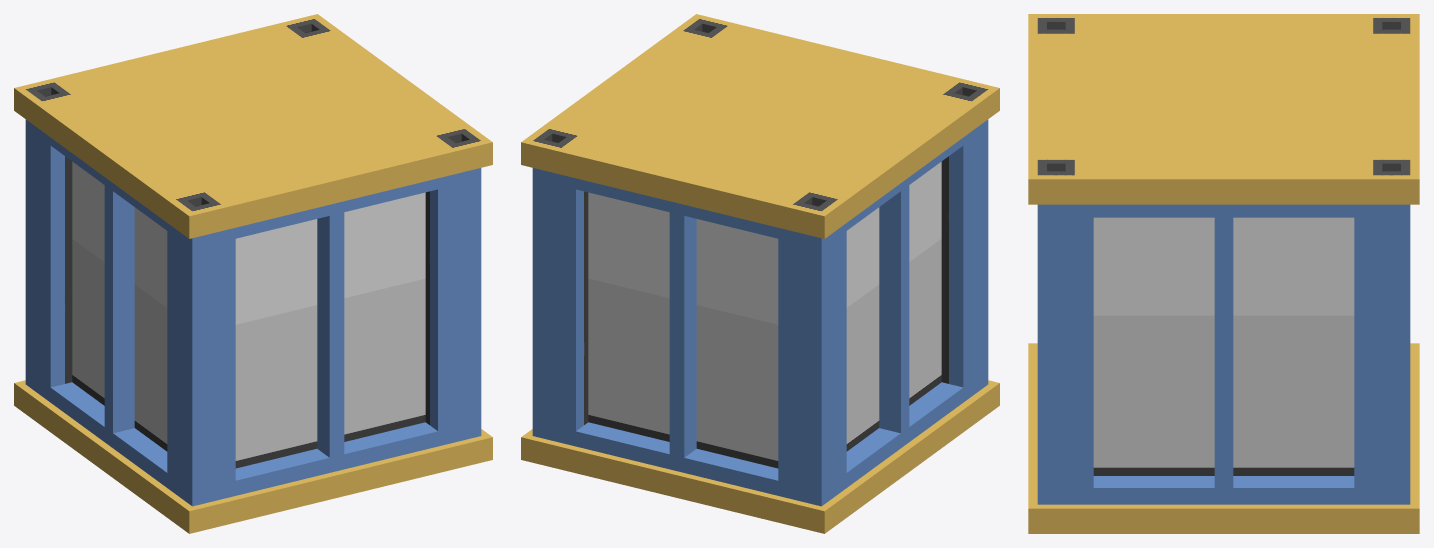
File: Tower_2.fbx
3 renders of one model, left to right at view 1: azimuth 30°, elevation 25°; view 2: azimuth 150°, elevation 25°; view 3: azimuth 270°, elevation 25°, orthographic. The views are drawn at different scales.
Visible parts, largest first — view 1: Box; view 2: Box; view 3: Box.
Part boxes in pixels (x1=…): Box: x1=14, y1=14, x2=492, y2=533; Box: x1=521, y1=14, x2=999, y2=533; Box: x1=1028, y1=14, x2=1419, y2=533.
Bounding box in the file's own units: 42 × 42 × 42.
1 material, 1 textured.
